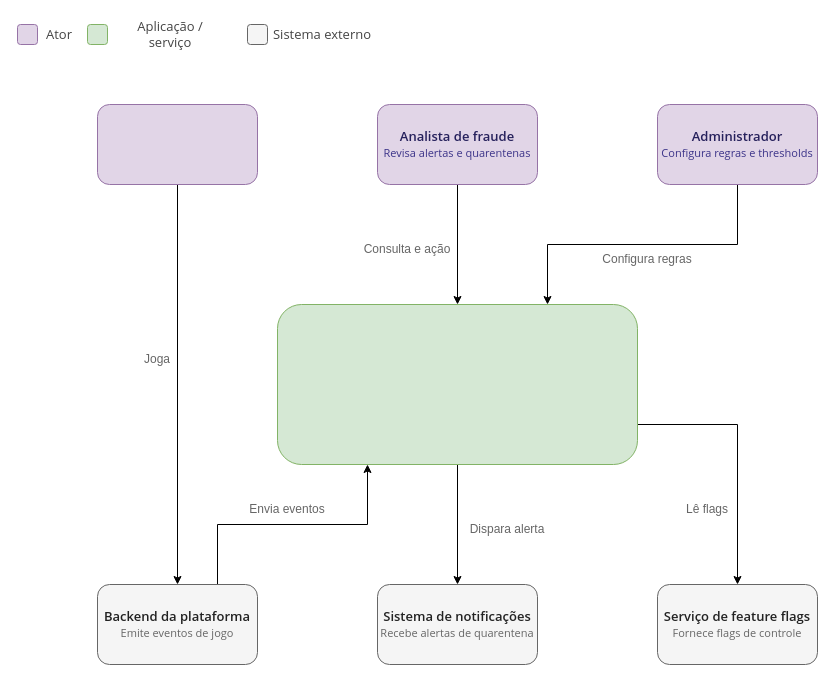
The diagram is 835 pixels wide and 682 high, and some of its shapes have lost their labels. The box of each missing label's shape, as (x1, y1, x2, y2) in pixels:
Jogador Usuário final da plataforma: (96, 104, 258, 184)
Motor de Antifraude Scoring · quarentena · painel admin: (276, 304, 638, 464)
